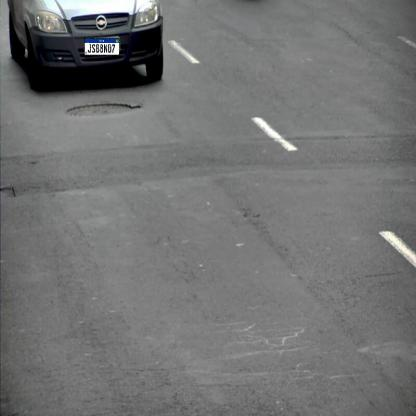PlacaM: (84, 38, 120, 56)
